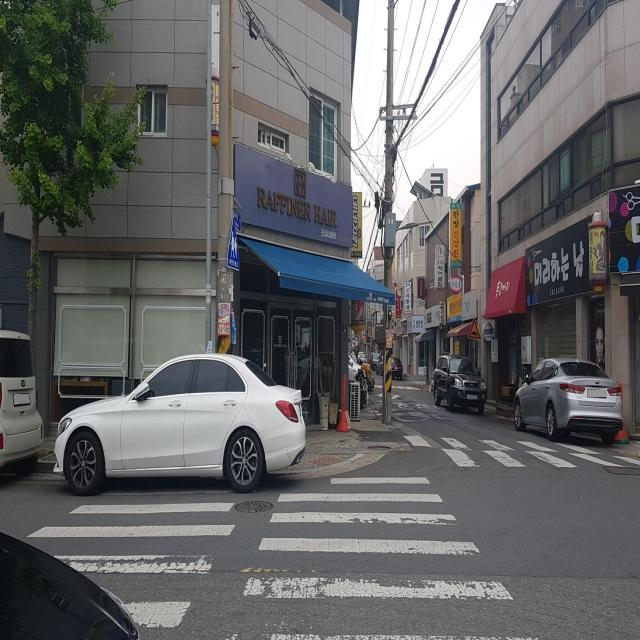횡단보도: (24, 471, 538, 638), (395, 417, 640, 472)
